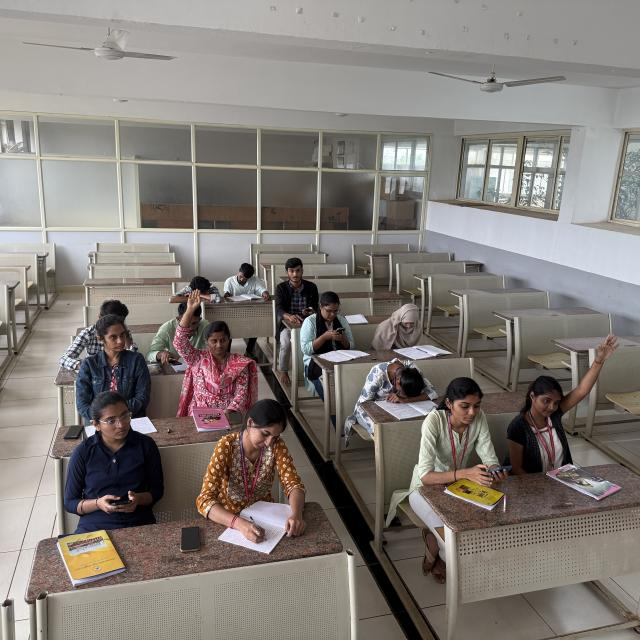Hand Rising: (504, 328, 626, 468), (175, 284, 257, 398)
Reading: (371, 299, 441, 359), (220, 257, 273, 311)
Sleeping: (362, 352, 438, 404), (165, 269, 224, 307)
Using Phone: (59, 391, 166, 526), (423, 377, 524, 490), (300, 288, 368, 363), (272, 253, 322, 321)
Writing: (202, 399, 308, 550)
